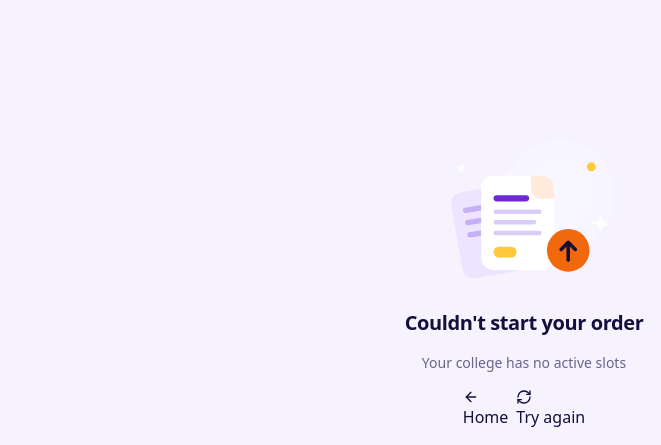
Test: starting an order › shows the reason and retries when the draft can't be created
This screenshot has width=661, height=445.
expect the message reads "Your college has no active slots": met, box x1=422 y1=353 x2=626 y2=372
Click the button "Try again". click: (551, 409)
box: x1=516 y1=389 x2=585 y2=429
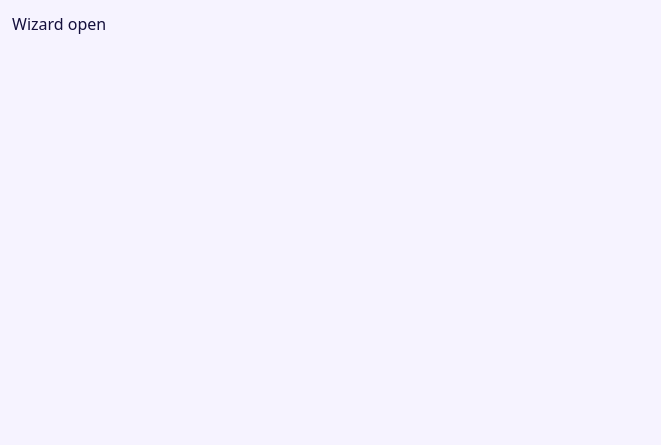
expect the text "Wizard open" is shown: met, box x1=12 y1=13 x2=106 y2=35
